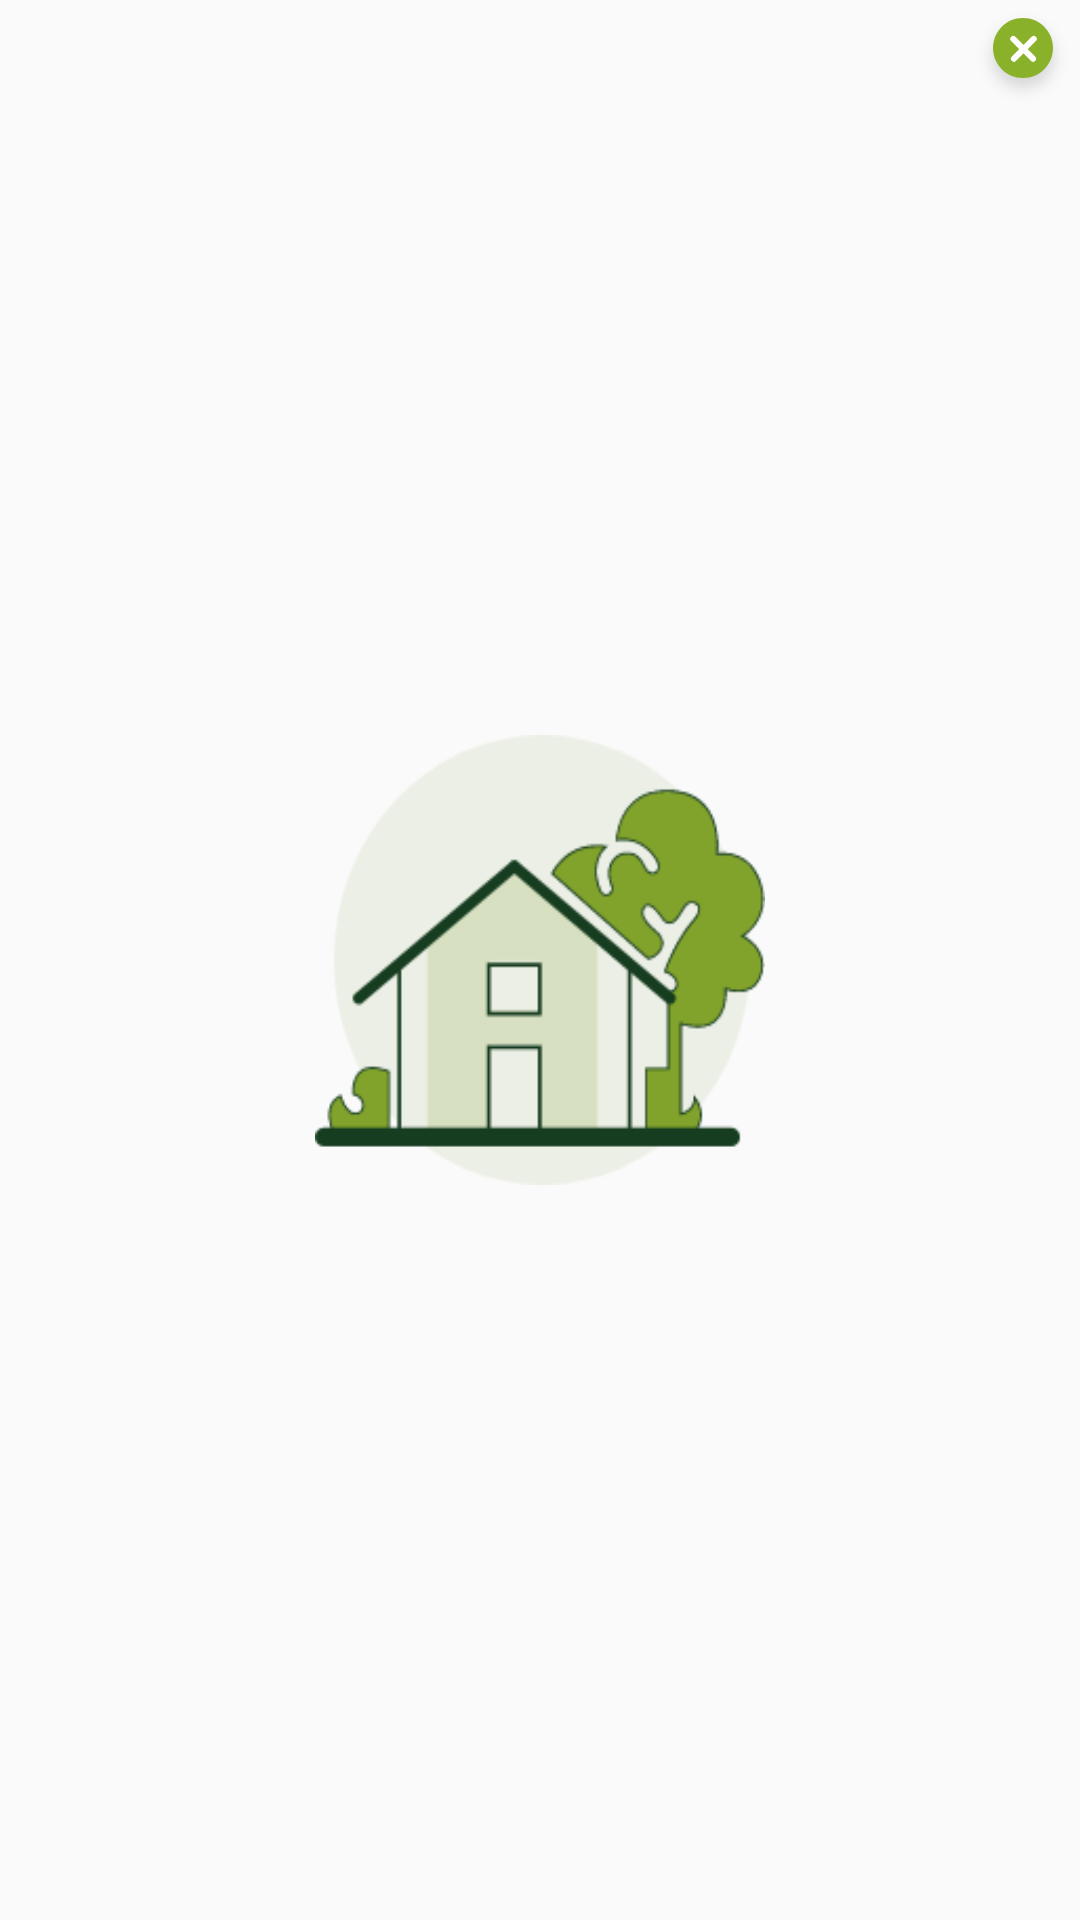

Icon bounding boxes for this 1080w x 1920h phone screenshot, format (x1, y1, x2, y2):
delete: (993, 18, 1053, 83)
